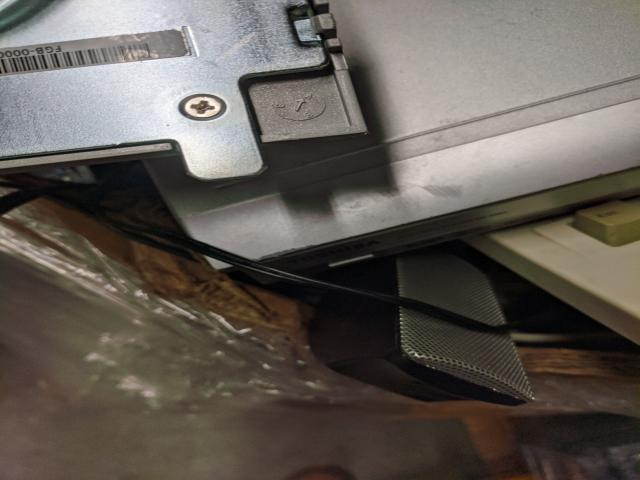CRS: (175, 95, 229, 120)
